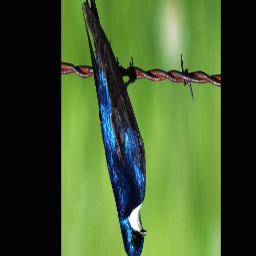Swallow: (81, 0, 148, 256)
